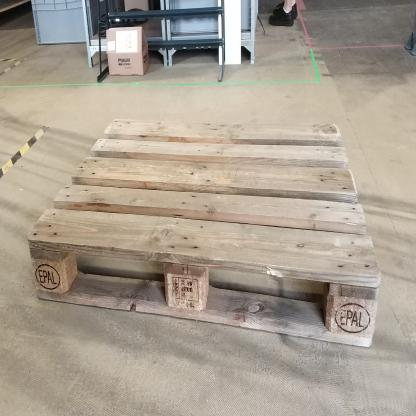BoxFace: (22, 113, 383, 354)
